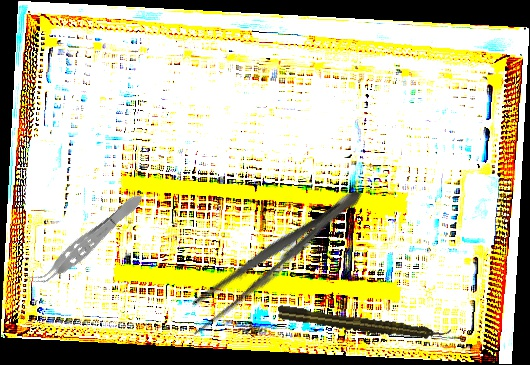Dressing Forceps: (175, 177, 371, 341)
Handpiece: (276, 303, 452, 345)
Tissue Forceps: (25, 187, 149, 296)
